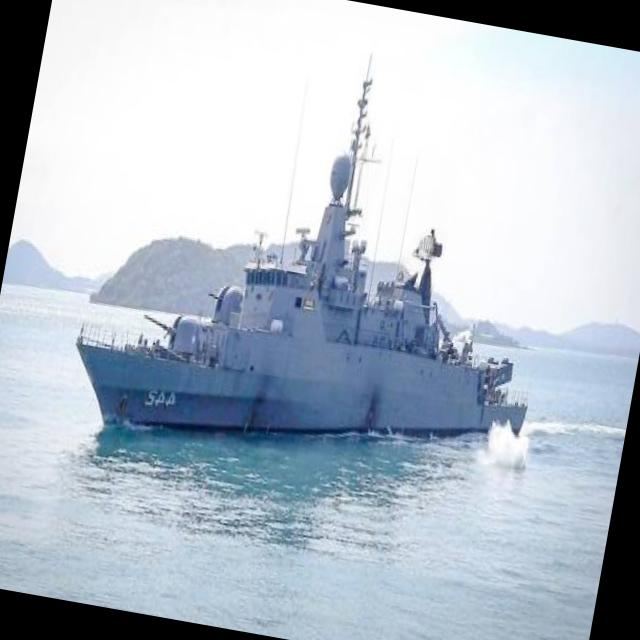Military: (75, 48, 524, 441)
